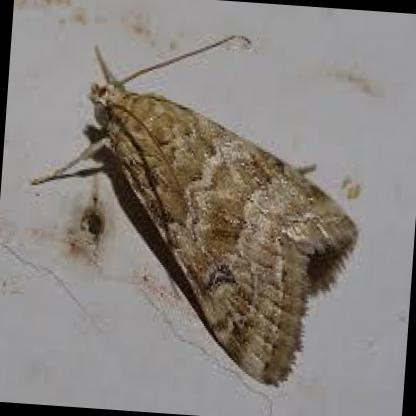Hellula undalis: (27, 26, 371, 399)
